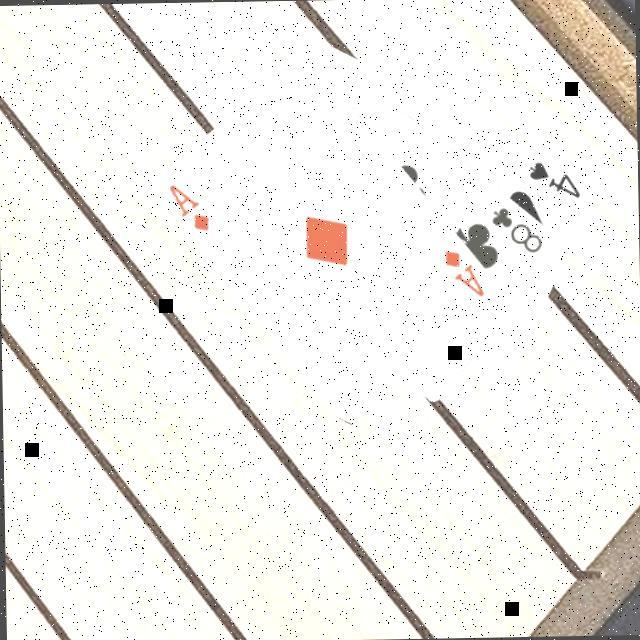4S: (524, 158, 583, 203)
8C: (485, 204, 544, 259)
AD: (163, 181, 212, 237), (439, 247, 486, 303)
